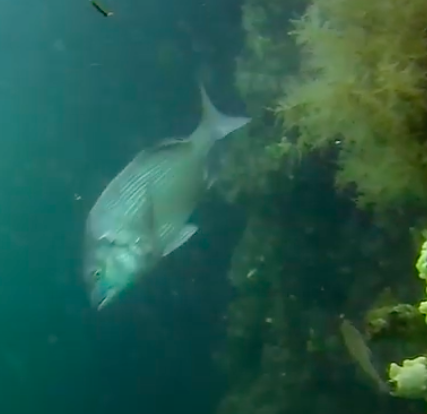kurodai: (57, 82, 269, 314)
